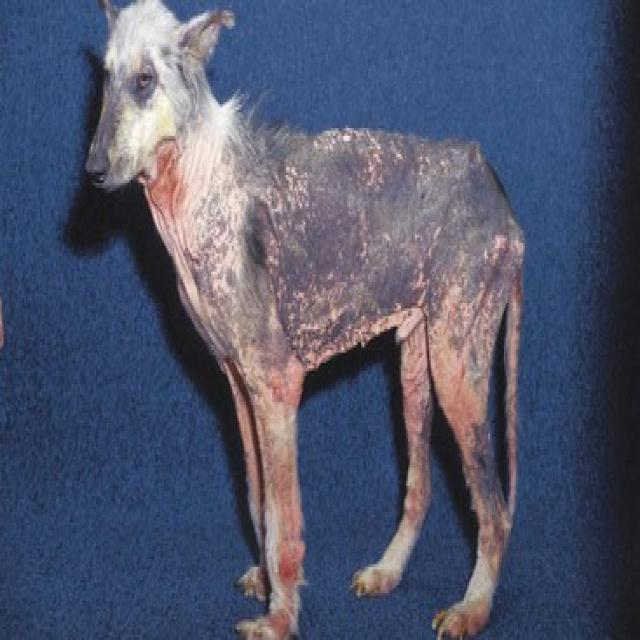nhiem nam (cho): (104, 0, 543, 640)
